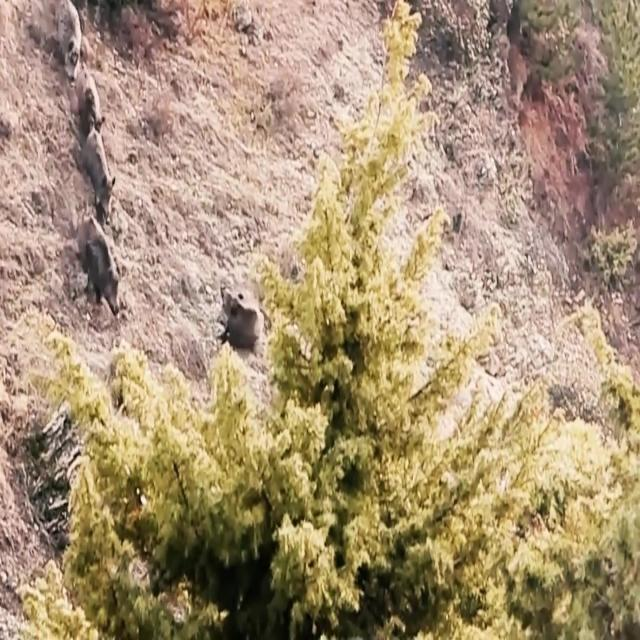pig: (68, 187, 134, 325), (207, 266, 269, 354), (65, 65, 120, 158), (80, 120, 123, 226), (55, 0, 87, 96)
